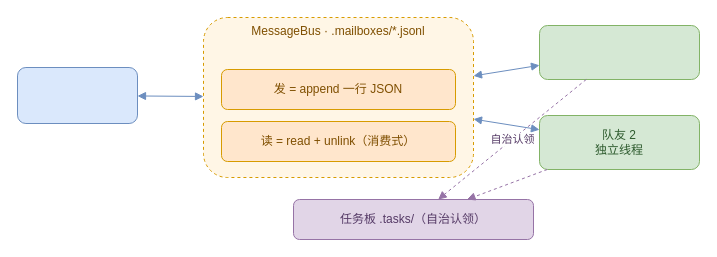
Image size: 717x257. Some labels were removed from this diagram. Here are the shapes that lost their labels. From the top down, the box of each, then its label:
(538, 24, 700, 80): 队友 1 独立线程·精简工具集
(16, 66, 138, 124): Lead Agent 派活·汇总
